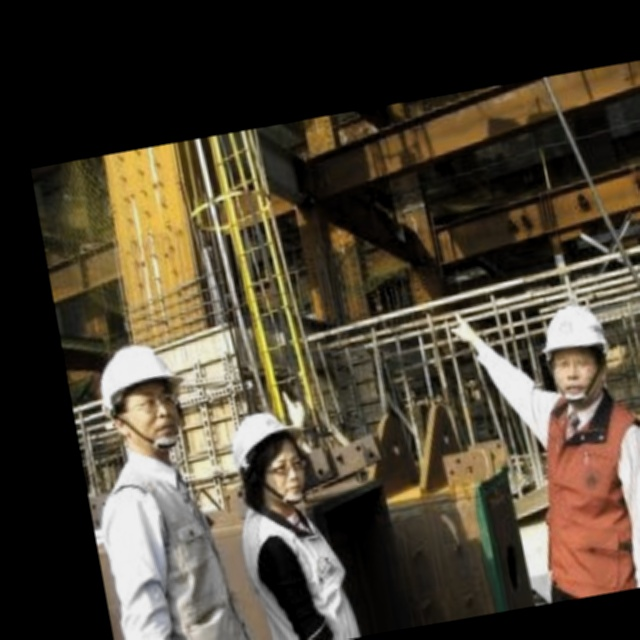Sin_Casco_Mascarrilla: (93, 338, 194, 463), (535, 299, 616, 407)
Sin_Chaleco: (95, 456, 256, 640)
